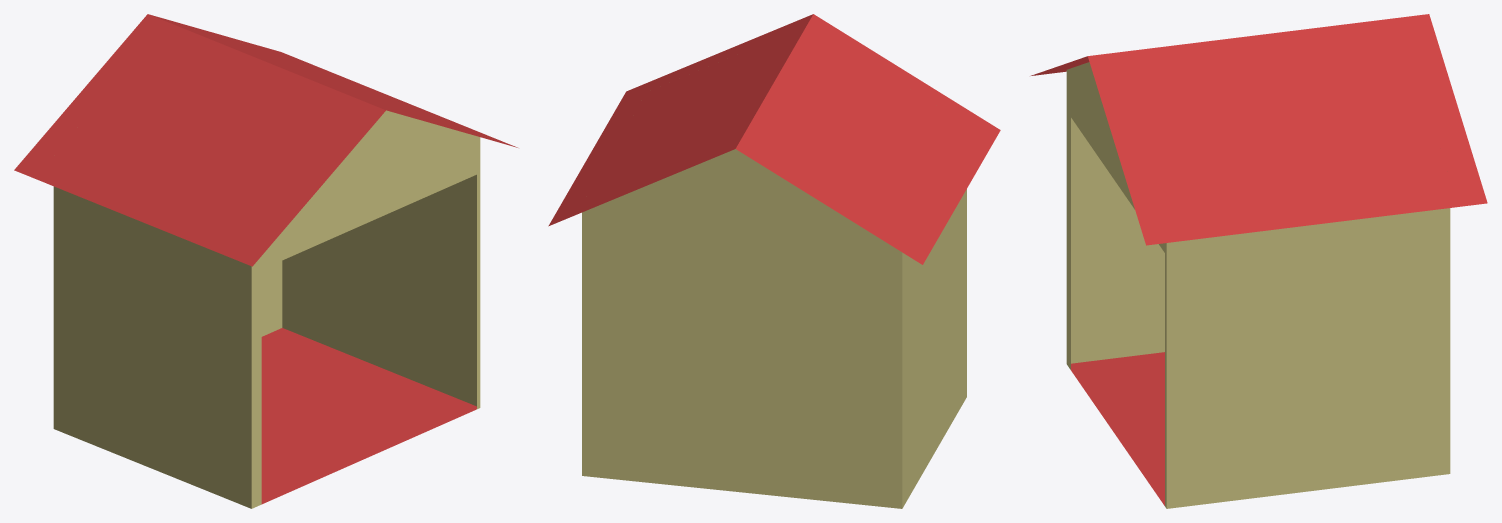
3 views of the same model, side by side, from view 1: azimuth 30°, elevation 25°; view 2: azimuth 150°, elevation 25°; view 3: azimuth 270°, elevation 25° (orthographic). The views are drawn at different scales.
Size of the model in its own units: 12.44 by 11.4 by 10.54.
